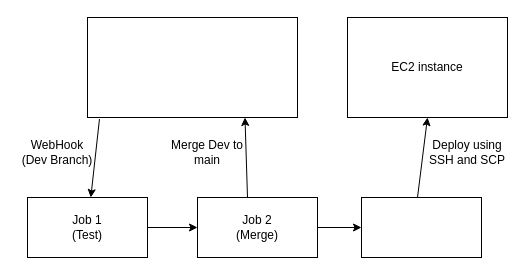
The diagram is 525 pixels wide and 275 high, and some of its shapes have lost their labels. The centre of each missing label's shape, as x and y in pixels:
"GitHub Source Code" goes at (x=192, y=67).
"Job 3 (Deploy)" goes at (x=421, y=227).
